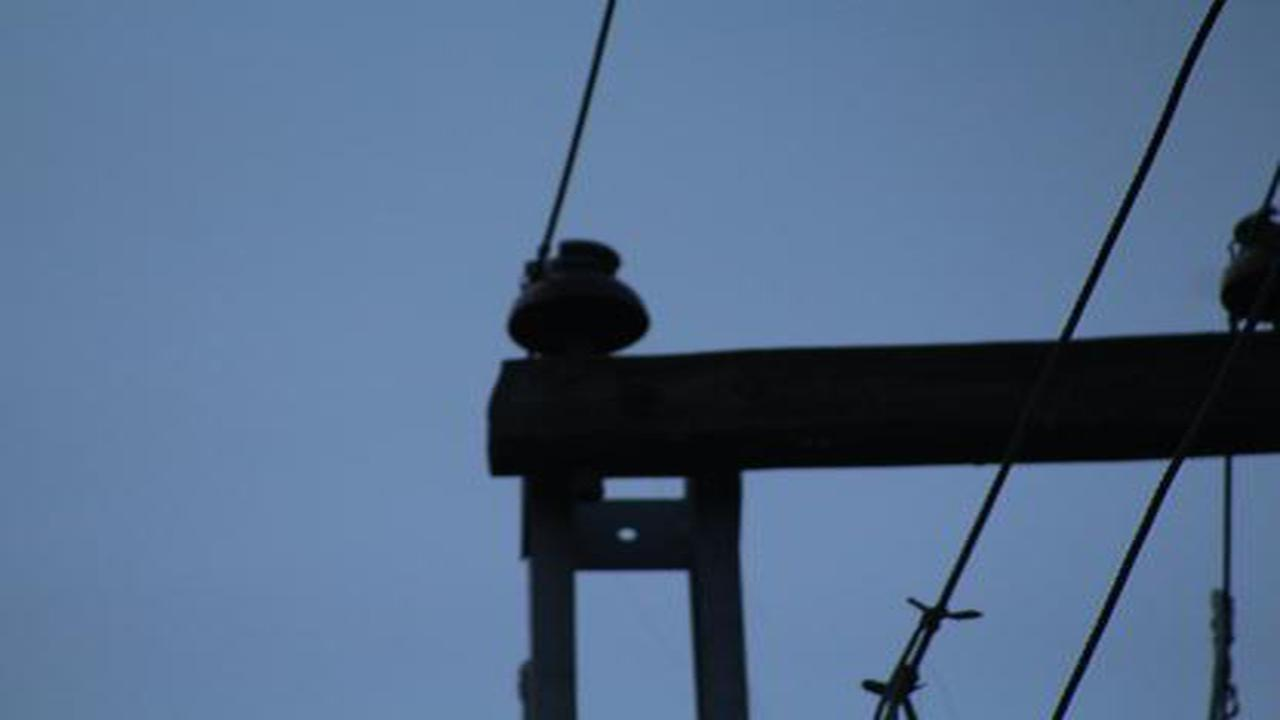insulator_pin: (498, 233, 656, 359)
